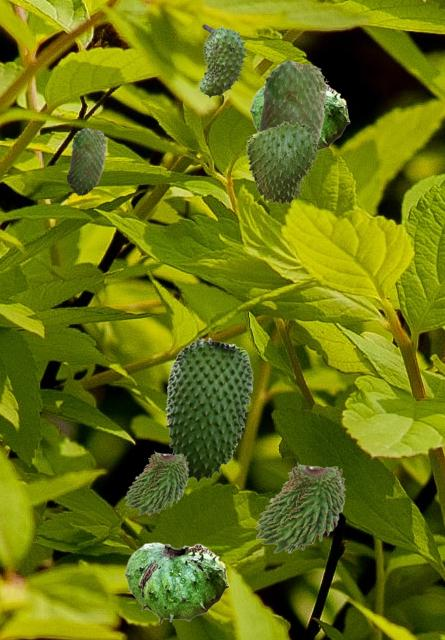guyabano: (165, 337, 252, 482), (124, 542, 228, 624), (254, 461, 345, 552), (249, 83, 349, 150), (246, 121, 319, 205), (259, 59, 327, 148), (124, 450, 188, 514), (197, 24, 248, 98), (66, 127, 106, 195)
